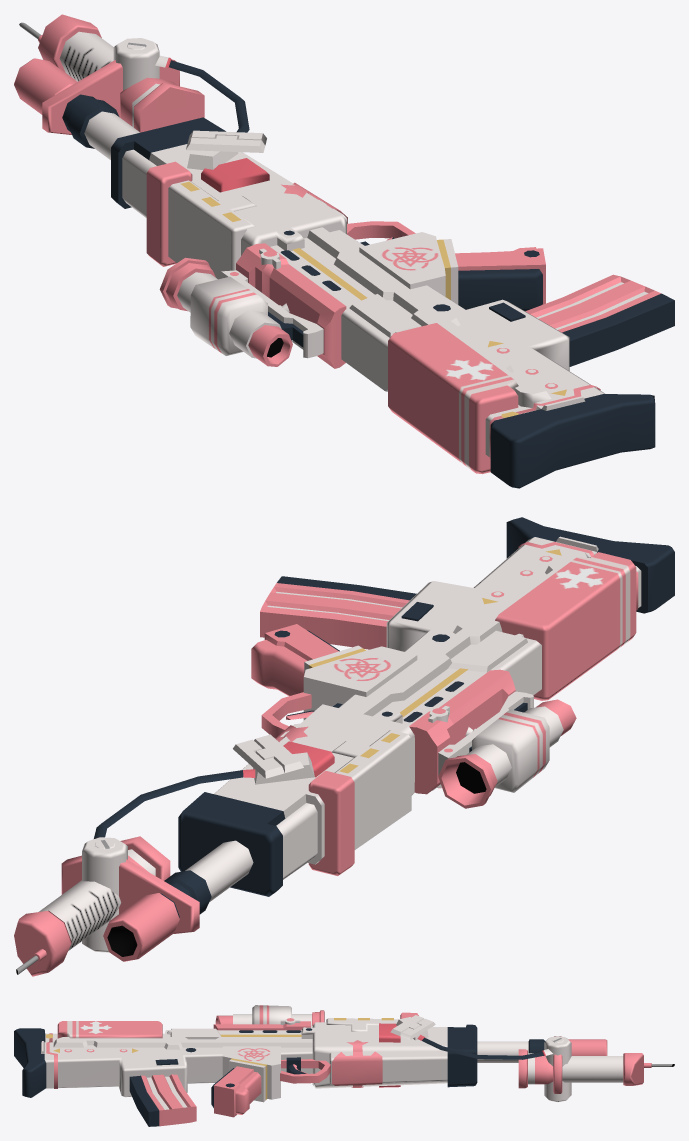
The model's file is serina.glb.
3 renders of one model, top to bottom at view 1: azimuth 30°, elevation 25°; view 2: azimuth 150°, elevation 25°; view 3: azimuth 270°, elevation 25°, orthographic. The views are drawn at different scales.
Visible parts, largest first — view 1: Serina_Original_Weapon; view 2: Serina_Original_Weapon; view 3: Serina_Original_Weapon.
Part boxes in pixels (bbox=[...]): Serina_Original_Weapon: bbox=[14, 14, 674, 488]; Serina_Original_Weapon: bbox=[14, 517, 674, 976]; Serina_Original_Weapon: bbox=[14, 1005, 674, 1126].
Size of the model in its own units: 0.2217 by 0.065 by 0.6123.
Materials: 1 (1 with a texture image).
